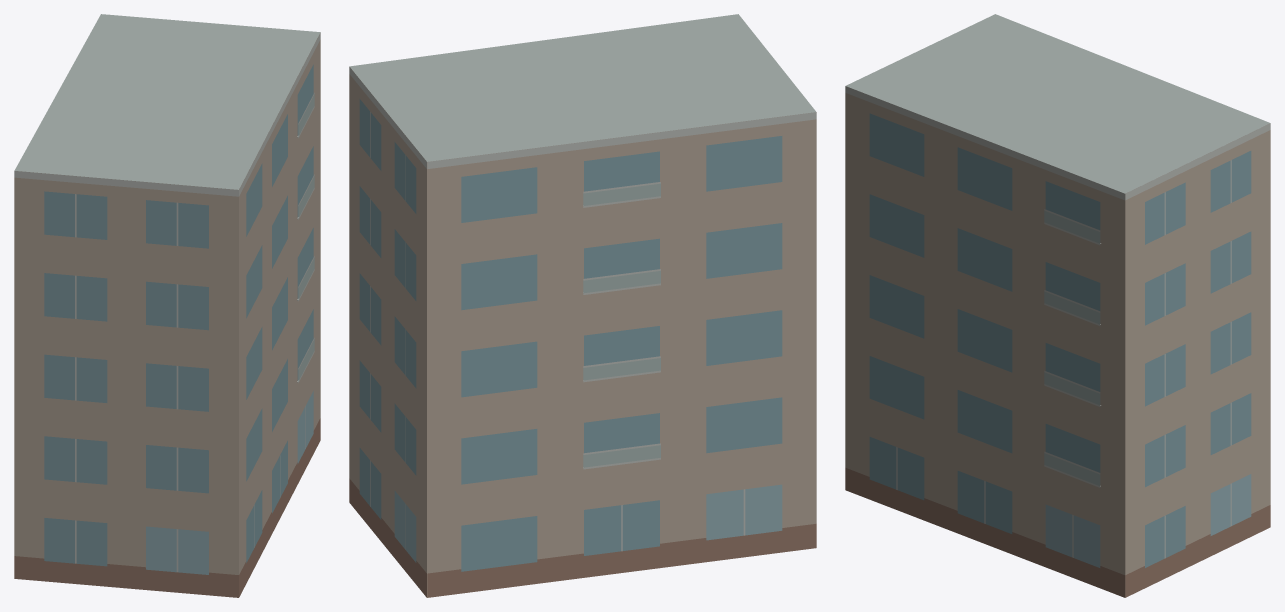
File: survey-upis-32531278.glb
3 renders of one model, left to right at view 1: azimuth 30°, elevation 25°; view 2: azimuth 150°, elevation 25°; view 3: azimuth 270°, elevation 25°, orthographic. The views are drawn at different scales.
Parts seen in each view (by area): view 1: survey-upis-32531278.tmp; view 2: survey-upis-32531278.tmp; view 3: survey-upis-32531278.tmp.
Boxes of the visible parts, <box> form: survey-upis-32531278.tmp: <box>14,14,320,597</box>; survey-upis-32531278.tmp: <box>349,14,816,597</box>; survey-upis-32531278.tmp: <box>845,14,1270,597</box>.
Size of the model in its own units: 13.93 by 14.6 by 13.93.
